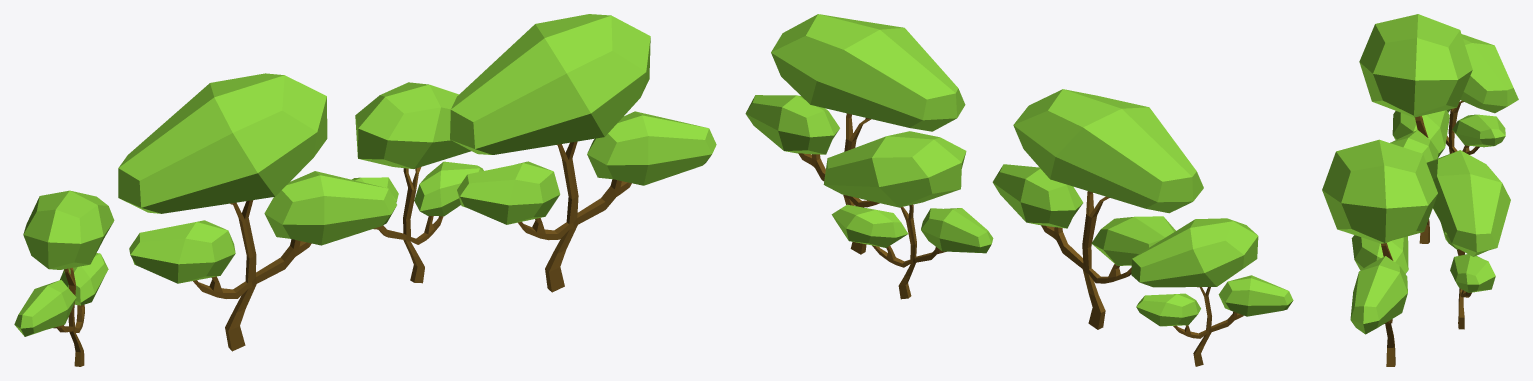
The model's file is Asset_BlockPlain_Trees_02.fbx.
The picture shows the model from 3 angles, left to right: view 1: azimuth 30°, elevation 25°; view 2: azimuth 150°, elevation 25°; view 3: azimuth 270°, elevation 25°; orthographic projection. The views are drawn at different scales.
Parts seen in each view (by area): view 1: Asset_Tree_Plain_016, Asset_Tree_Plain_013, Asset_Tree_Plain_017, Asset_Tree_Plain_015; view 2: Asset_Tree_Plain_016, Asset_Tree_Plain_013, Asset_Tree_Plain_017, Asset_Tree_Plain_015; view 3: Asset_Tree_Plain_013, Asset_Tree_Plain_016, Asset_Tree_Plain_017, Asset_Tree_Plain_015.
Part boxes in pixels (box(x1,y1,x2,y2)): Asset_Tree_Plain_016: box(118, 73, 396, 351); Asset_Tree_Plain_013: box(450, 14, 716, 292); Asset_Tree_Plain_017: box(352, 82, 483, 283); Asset_Tree_Plain_015: box(14, 190, 114, 366); Asset_Tree_Plain_016: box(992, 89, 1203, 329); Asset_Tree_Plain_013: box(745, 14, 965, 254); Asset_Tree_Plain_017: box(823, 131, 993, 299); Asset_Tree_Plain_015: box(1131, 218, 1293, 366); Asset_Tree_Plain_013: box(1322, 139, 1437, 366); Asset_Tree_Plain_016: box(1359, 14, 1472, 243); Asset_Tree_Plain_017: box(1426, 150, 1510, 329); Asset_Tree_Plain_015: box(1446, 34, 1518, 154).
Bounding box in the file's own units: 138 × 52.52 × 41.73.
1 material, 1 textured.
